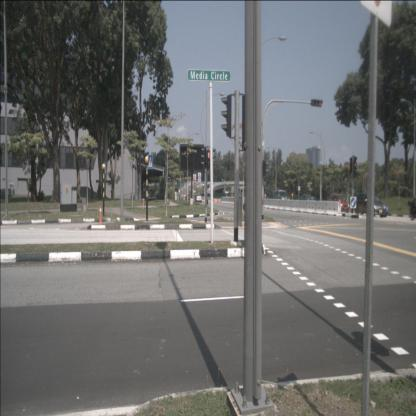barrier: (325, 200, 341, 216), (315, 200, 326, 215), (306, 200, 316, 214), (298, 200, 307, 212), (291, 200, 299, 212), (284, 199, 292, 211), (278, 199, 286, 211), (263, 198, 269, 208), (273, 199, 279, 209), (269, 199, 274, 209)
cone: (98, 203, 104, 225)
